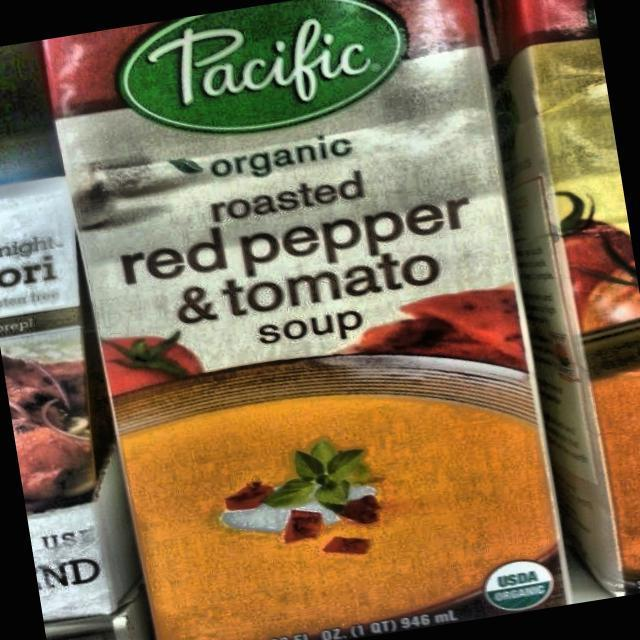cardboard: (36, 0, 574, 640), (470, 0, 640, 604)
